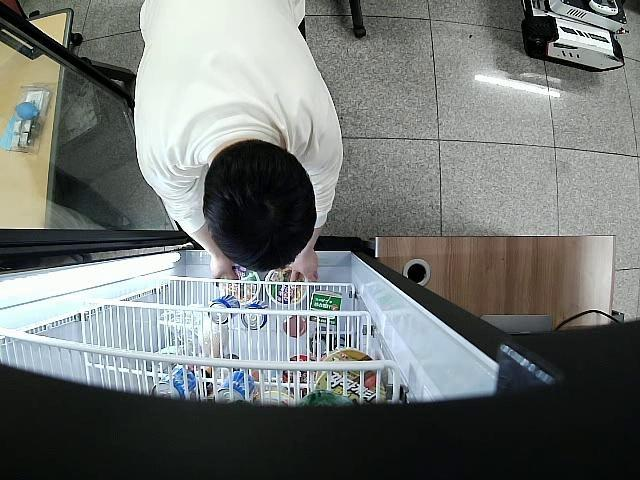09_yukGaeJang: (220, 266, 260, 305), (268, 268, 308, 306)
